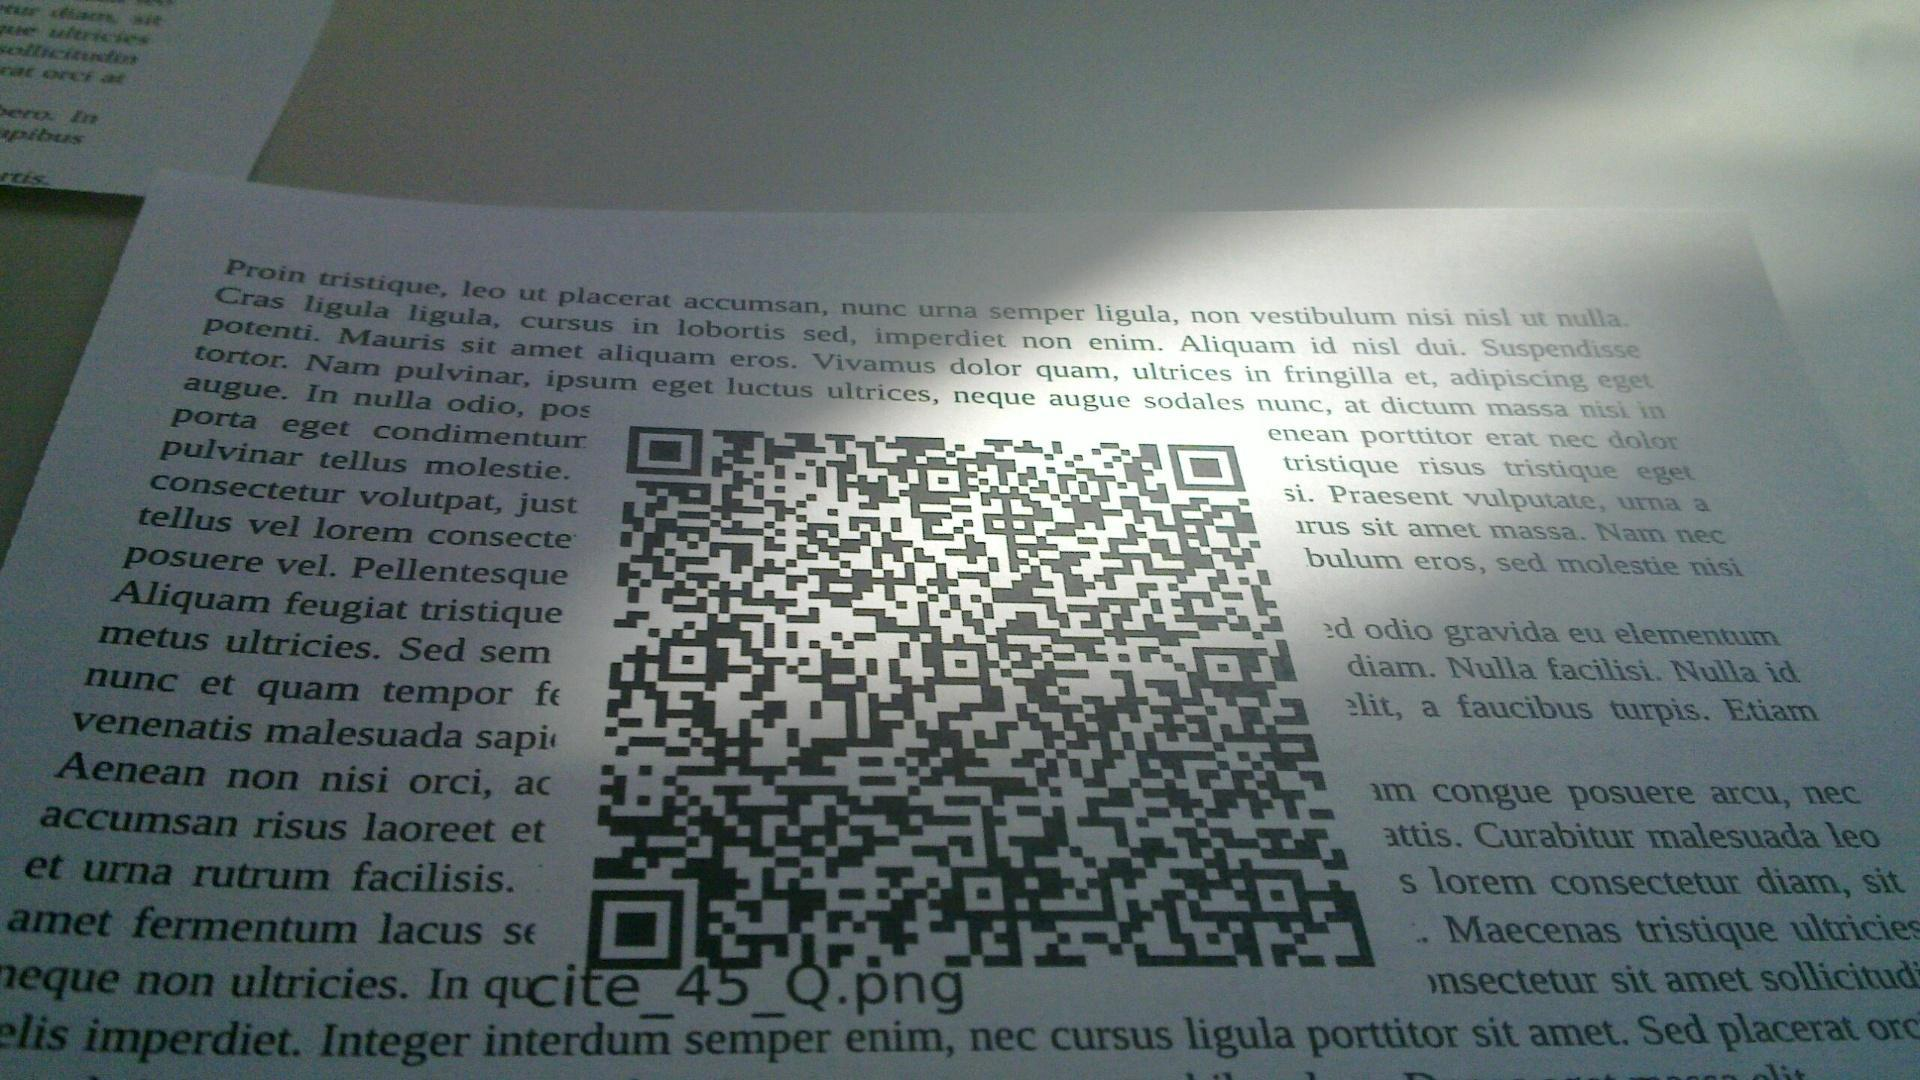Finder pattern: (580, 880, 694, 975), (621, 419, 709, 483), (1162, 439, 1251, 496)
